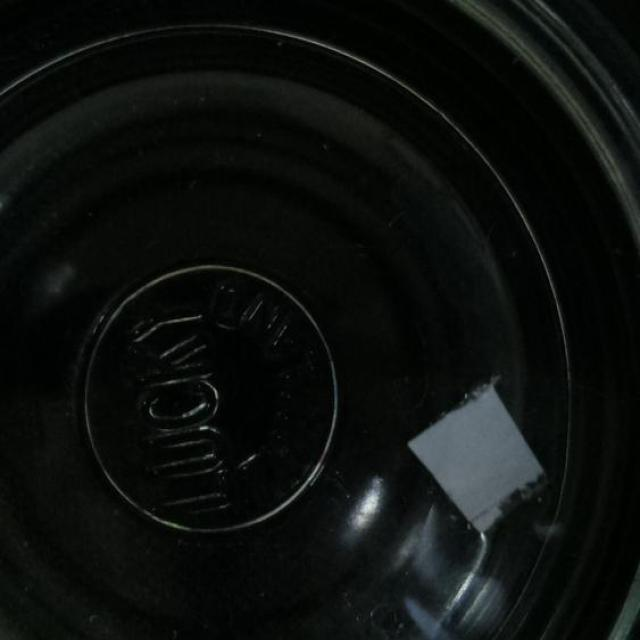fiber: (409, 386, 555, 536)
